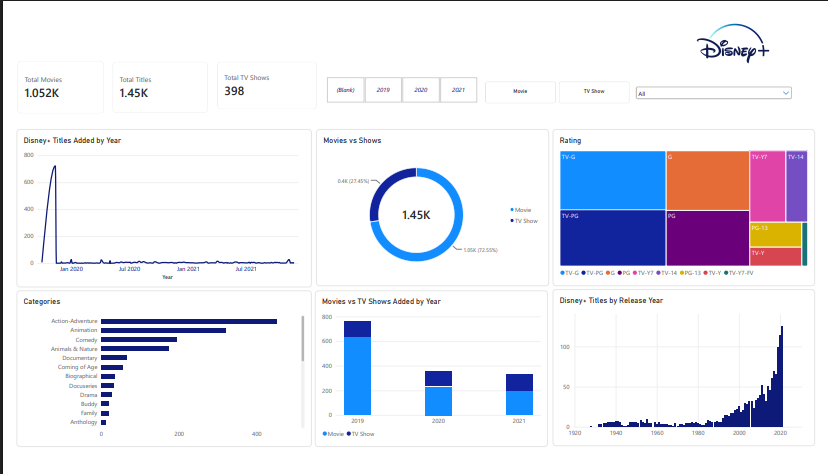

The page's visual inventory and layout, read from the dashboard file:
{"tool":"powerbi","page":{"name":"Page 1","canvas":[1920,1080],"ordinal":0},"visuals":[{"type":"lineChart","title":"Disney+ Titles Added by Year","fields":{"Category":["Dim_Date.date_added.Variation.Date Hierarchy.Year","Dim_Date.date_added.Variation.Date Hierarchy.Quarter","Dim_Date.date_added.Variation.Date Hierarchy.Month","Dim_Date.date_added.Variation.Date Hierarchy.Day"],"Y":["CountNonNull(Fact_Content.show_id)"]},"box":[0,284.1,711,372.2],"z":0},{"type":"cardVisual","fields":{"Data":["Fact_Content.Total Movies"]},"box":[12.7,120.9,205.2,124.1],"z":1000},{"type":"cardVisual","fields":{"Data":["Fact_Content.Total Titles"]},"box":[239.4,123.3,226.7,121.7],"z":2000},{"type":"cardVisual","fields":{"Data":["Fact_Content.Total TV Shows"]},"box":[487.5,123.3,236.2,112.1],"z":3000},{"type":"barChart","title":"Categories","fields":{"Category":["Dim_Category.primary_list"],"Y":["CountNonNull(Fact_Content.show_id)"]},"box":[0,665.8,711,372.2],"z":4000},{"type":"donutChart","title":"Movies vs Shows","fields":{"Category":["Dim_Type.type"],"Y":["CountNonNull(Fact_Content.show_id)"]},"box":[727.7,284.1,553.5,369.8],"z":5000},{"type":"columnChart","title":"Movies vs TV Shows Added by Year","fields":{"Category":["Dim_Date.date_added.Variation.Date Hierarchy.Year"],"Y":["CountNonNull(Fact_Content.show_id)"],"Series":["Dim_Type.type"]},"box":[727.7,665.8,553.5,372.2],"z":6000},{"type":"treemap","title":"Rating","fields":{"Group":["Fact_Content.rating"],"Values":["CountNonNull(Fact_Content.show_id)"]},"box":[1295.6,284.1,589.3,369.8],"z":7000},{"type":"clusteredColumnChart","title":"Disney+ Titles by Release Year","fields":{"Category":["Fact_Content.release_year"],"Y":["CountNonNull(Fact_Content.show_id)"]},"box":[1295.6,665.8,589.3,372.2],"z":8000},{"type":"advancedSlicerVisual","title":"Type","fields":{"Values":["Dim_Type.type"]},"box":[1125,137.5,343.6,83.5],"z":9000},{"type":"slicer","fields":{"Values":["Fact_Content.primary_list"]},"box":[1477.5,152.5,380,76.2],"z":10000},{"type":"slicer","fields":{"Values":["Dim_Date.date_added.Variation.Date Hierarchy.Year"]},"box":[727.5,157.5,396.2,63.8],"z":11000},{"type":"image","box":[1542.5,5,342.5,147.5],"z":12000}]}

Visuals, with their boxes in screenshot pixels (x1, y1, x2, y2), scaled from the page's 1920x1080 canvas onto the 828x474 screenshot:
"Disney+ Titles Added by Year" lineChart: (0,125,307,288)
cardVisual - Fact_Content.Total Movies: (5,53,94,108)
cardVisual - Fact_Content.Total Titles: (103,54,201,108)
cardVisual - Fact_Content.Total TV Shows: (210,54,312,103)
"Categories" barChart: (0,292,307,456)
"Movies vs Shows" donutChart: (314,125,553,287)
"Movies vs TV Shows Added by Year" columnChart: (314,292,553,456)
"Rating" treemap: (559,125,813,287)
"Disney+ Titles by Release Year" clusteredColumnChart: (559,292,813,456)
"Type" advancedSlicerVisual: (485,60,633,97)
slicer - Fact_Content.primary_list: (637,67,801,100)
slicer - Dim_Date.date_added.Variation.Date Hierarchy.Year: (314,69,485,97)
image: (665,2,813,67)
